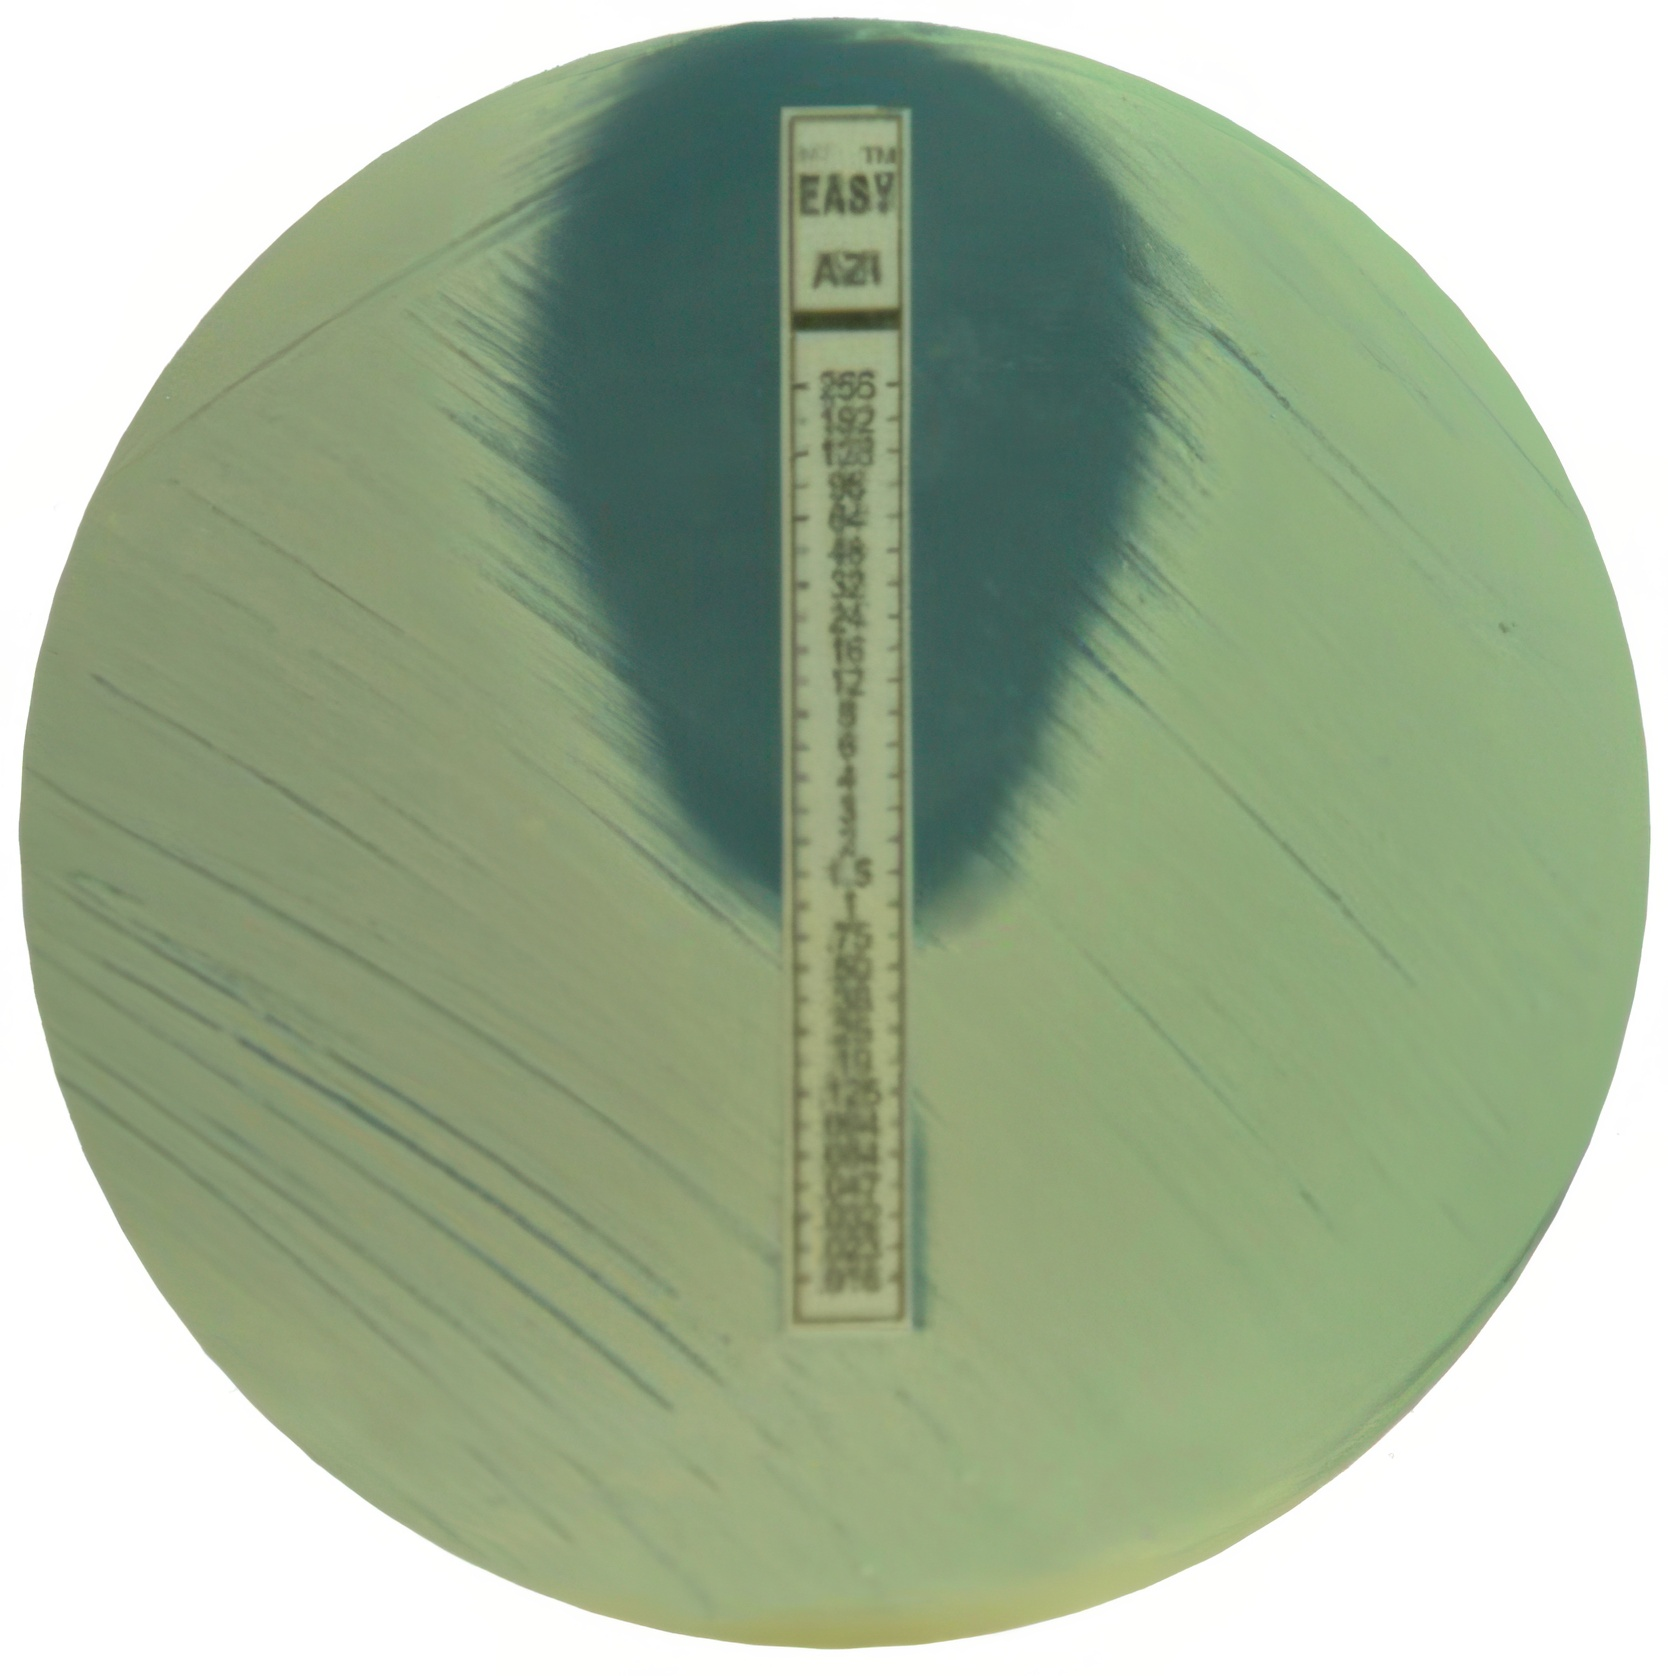line: (780, 105, 917, 1331)
zone: (544, 39, 1145, 904)
